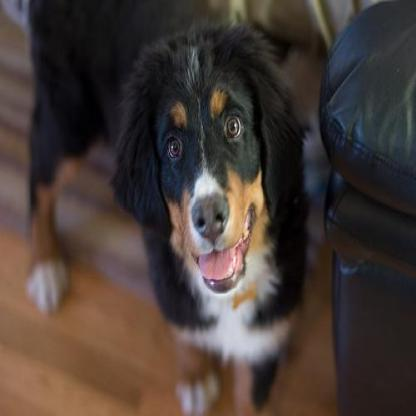Bernese_mountain_dog: (23, 0, 306, 409)
